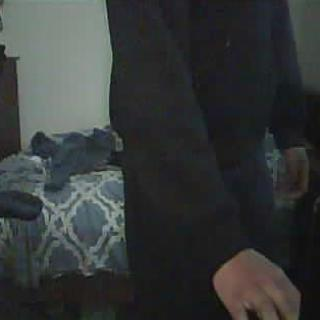Navy Sweatpants: (122, 149, 284, 320)
